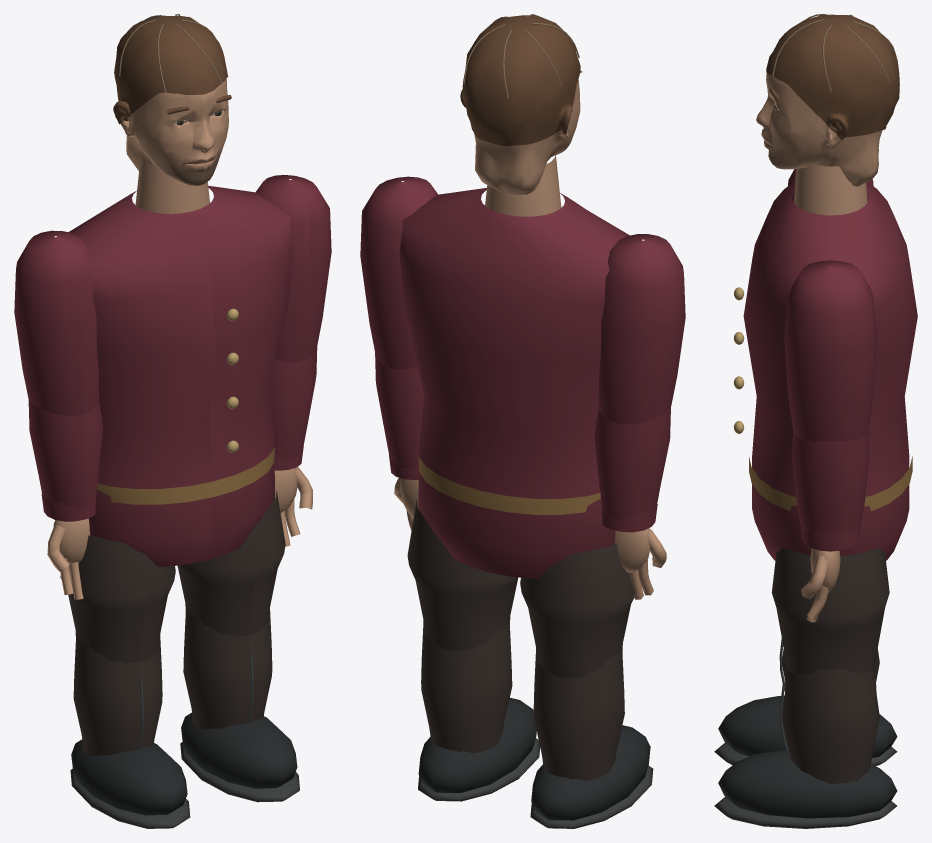
Rendered from tyrion-lannister.glb.
3 views of the same model, side by side, from view 1: azimuth 30°, elevation 25°; view 2: azimuth 150°, elevation 25°; view 3: azimuth 270°, elevation 25° (orthographic). The views are drawn at different scales.
Parts seen in each view (by area): view 1: TailoredTorso, TailoredSleeve (×2), TrouserThigh (×2), TrouserCalf (×2), Shoe (×2), Head, AnatomicalFace, LeftForearm, RightForearm, Sole (×2), Belt, Neck (+2 smaller); view 2: TailoredTorso, TailoredSleeve (×2), TrouserThigh (×2), TrouserCalf (×2), Head, Shoe (×2), LeftForearm, RightForearm, AnatomicalFace, Belt, Sole (×2), Neck (+2 smaller); view 3: TailoredTorso, TailoredSleeve, Head, Shoe (×2), TrouserThigh, TrouserCalf, RightForearm, AnatomicalFace, Neck, Sole (×2), RightHand, Belt (+1 smaller).
Boxes of the visible parts, x1,y1,x2,y2 form: TailoredTorso: (68, 185, 293, 566); TailoredSleeve (×2): (14, 175, 331, 416); TrouserThigh (×2): (60, 491, 285, 663); TrouserCalf (×2): (73, 610, 272, 755); Shoe (×2): (71, 712, 297, 815); Head: (113, 14, 231, 125); AnatomicalFace: (120, 79, 228, 185); LeftForearm: (28, 399, 103, 521); RightForearm: (269, 346, 317, 470); Sole (×2): (70, 742, 299, 828); Belt: (97, 447, 274, 504); Neck: (135, 157, 209, 213); TailoredTorso: (399, 188, 629, 578); TailoredSleeve (×2): (360, 176, 685, 424); TrouserThigh (×2): (407, 500, 634, 677); TrouserCalf (×2): (421, 622, 624, 780); Head: (460, 14, 581, 146); Shoe (×2): (418, 697, 650, 820); LeftForearm: (594, 407, 670, 532); RightForearm: (375, 353, 423, 479); AnatomicalFace: (474, 79, 580, 194); Belt: (418, 456, 600, 514); Sole (×2): (418, 738, 653, 828); Neck: (485, 154, 561, 216); TailoredTorso: (743, 182, 917, 560); TailoredSleeve: (784, 260, 877, 441); Head: (766, 14, 899, 139); Shoe (×2): (718, 695, 897, 818); TrouserThigh: (771, 547, 889, 674); TrouserCalf: (781, 666, 879, 783); RightForearm: (792, 431, 869, 551); AnatomicalFace: (756, 73, 882, 186); Neck: (794, 164, 867, 215); Sole (×2): (714, 742, 897, 828); RightHand: (801, 548, 840, 622); Belt: (749, 456, 912, 511).
Bounding box in the file's own units: 0.5458 × 1.3 × 0.311.
